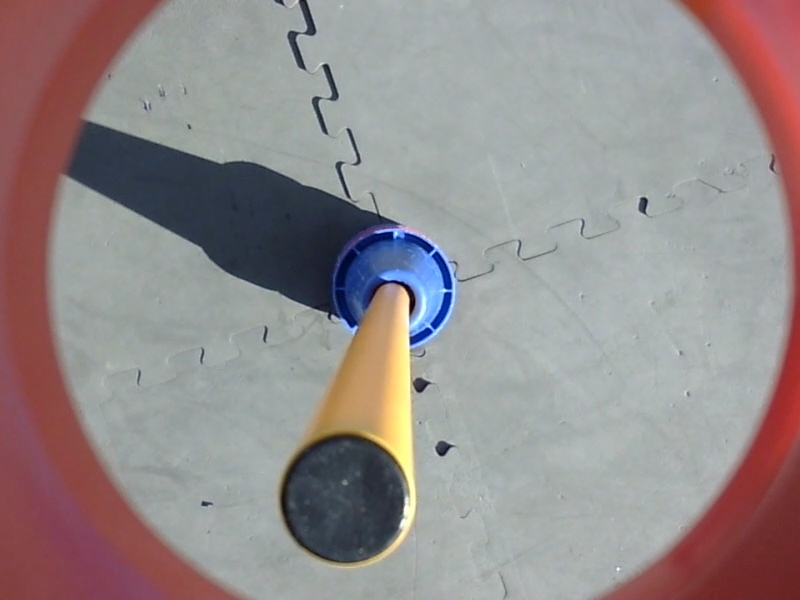tip: (275, 427, 421, 575)
